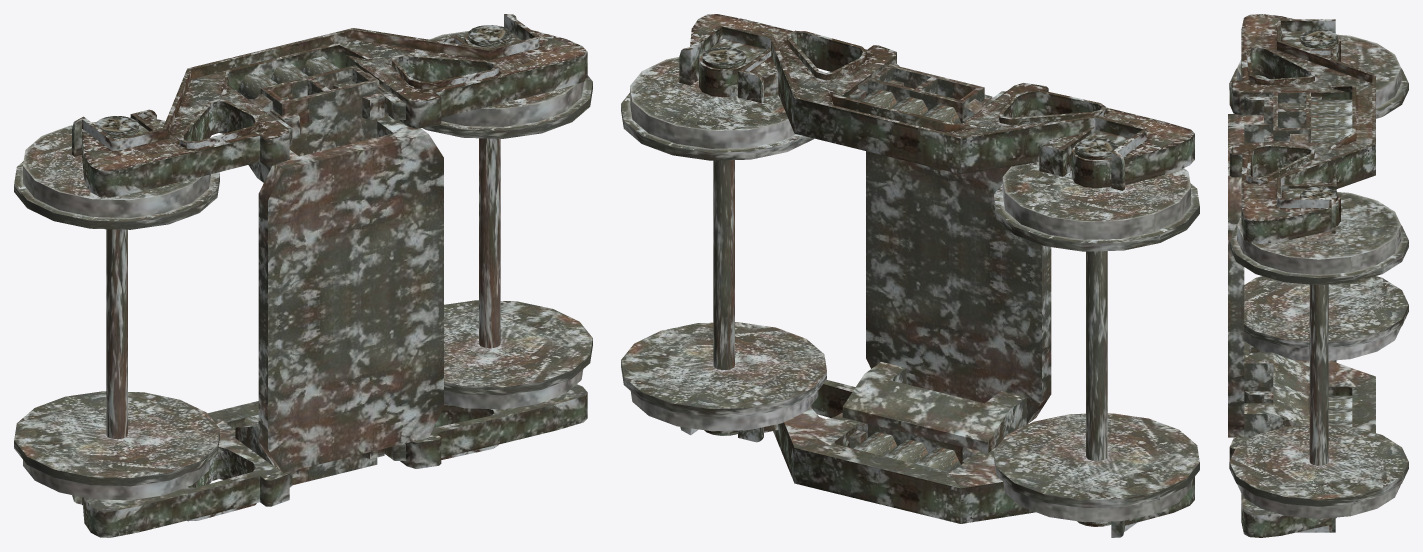
File: prop_trainwheels01_snow.glb
The picture shows the model from 3 angles, left to right: view 1: azimuth 30°, elevation 25°; view 2: azimuth 150°, elevation 25°; view 3: azimuth 270°, elevation 25°; orthographic projection. The views are drawn at different scales.
Bounding box in the file's own units: 128 × 85.32 × 41.98.
Materials: 1 (1 with a texture image).
